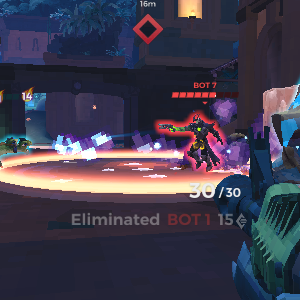model: (175, 107, 223, 172)
